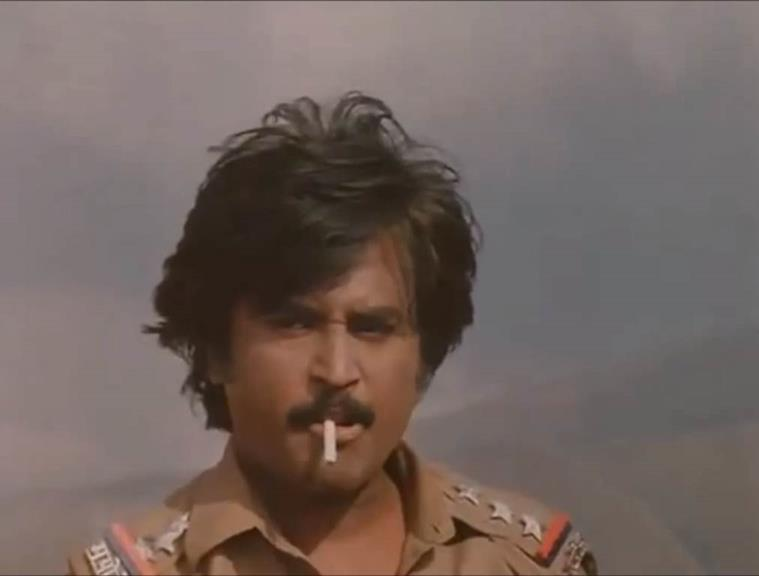cigarette: (312, 406, 343, 484)
